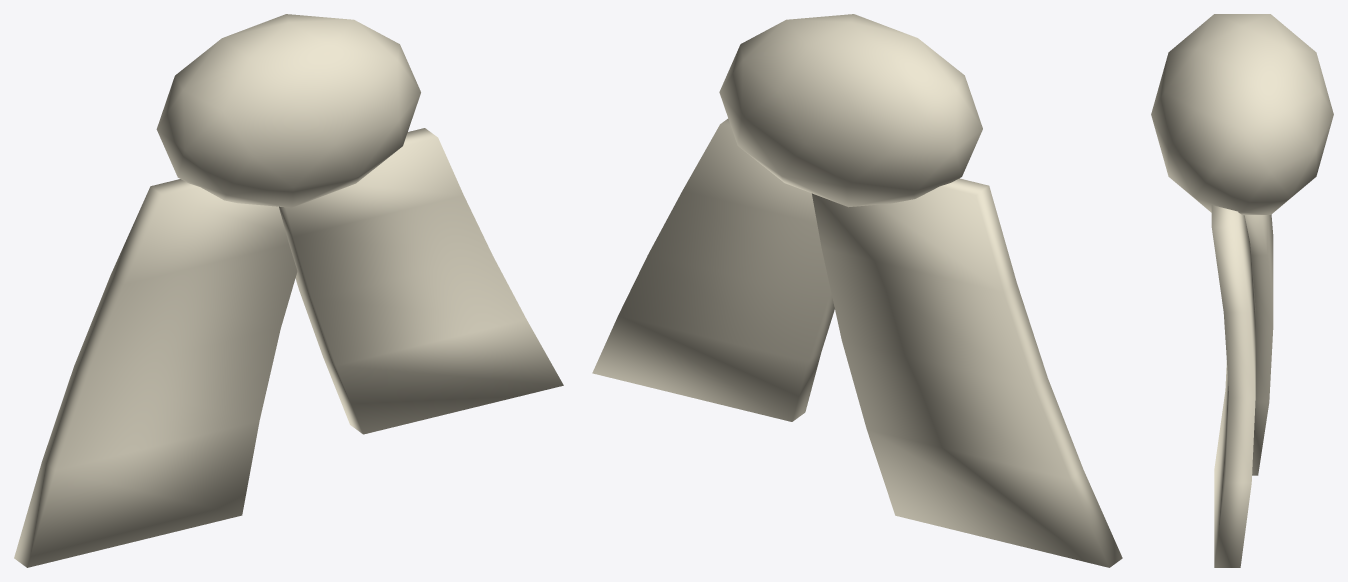
Rendered from lunden.glb.
The picture shows the model from 3 angles, left to right: view 1: azimuth 30°, elevation 25°; view 2: azimuth 150°, elevation 25°; view 3: azimuth 270°, elevation 25°; orthographic projection.
Parts seen in each view (by area): view 1: lunden; view 2: lunden; view 3: lunden.
Part boxes in pixels (x1,y1,x2,y2): lunden: (14, 14, 563, 567); lunden: (592, 14, 1122, 567); lunden: (1151, 14, 1333, 567).
Bounding box in the file's own units: 0.1381 × 0.1191 × 0.0416.
